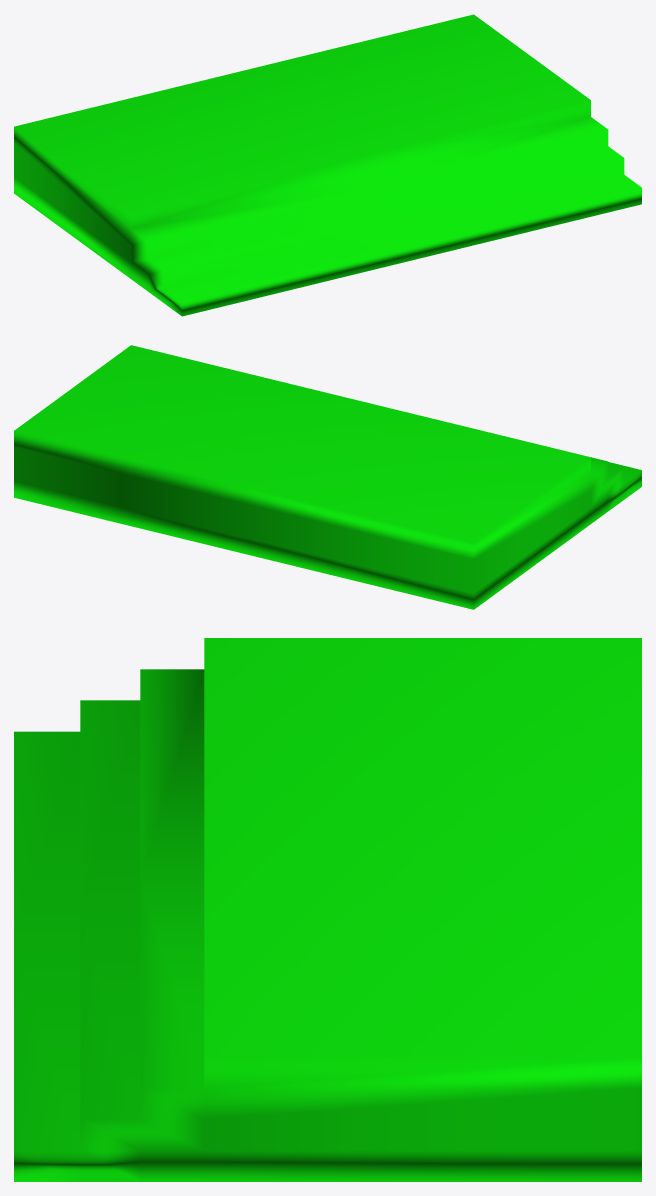
The model's file is mdl_Corredor_Escalera.fbx.
3 renders of one model, top to bottom at view 1: azimuth 30°, elevation 25°; view 2: azimuth 150°, elevation 25°; view 3: azimuth 270°, elevation 25°, orthographic. The views are drawn at different scales.
Visible parts, largest first — view 1: mdl_Corredor_Escalera; view 2: mdl_Corredor_Escalera; view 3: mdl_Corredor_Escalera.
Boxes of the visible parts, <box> form: mdl_Corredor_Escalera: <box>14,14,641,316</box>; mdl_Corredor_Escalera: <box>14,345,641,609</box>; mdl_Corredor_Escalera: <box>14,638,641,1181</box>.
Size of the model in its own units: 13.35 by 1.85 by 8.45.
